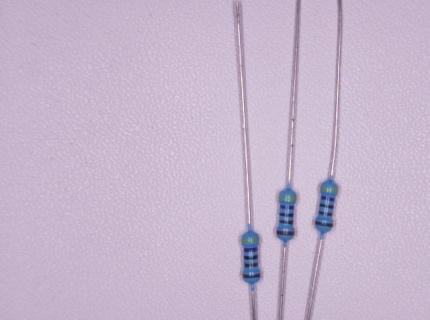Black band: (319, 203, 333, 209), (244, 255, 258, 259), (280, 213, 294, 217)
Brown band: (315, 221, 333, 227), (277, 230, 294, 236), (319, 211, 332, 217), (279, 220, 293, 225), (243, 274, 260, 278), (245, 263, 258, 268)
Violet band: (244, 247, 258, 252), (280, 205, 294, 210), (321, 196, 335, 201)
Yellow band: (321, 186, 338, 192), (279, 195, 296, 200), (242, 239, 259, 242)
